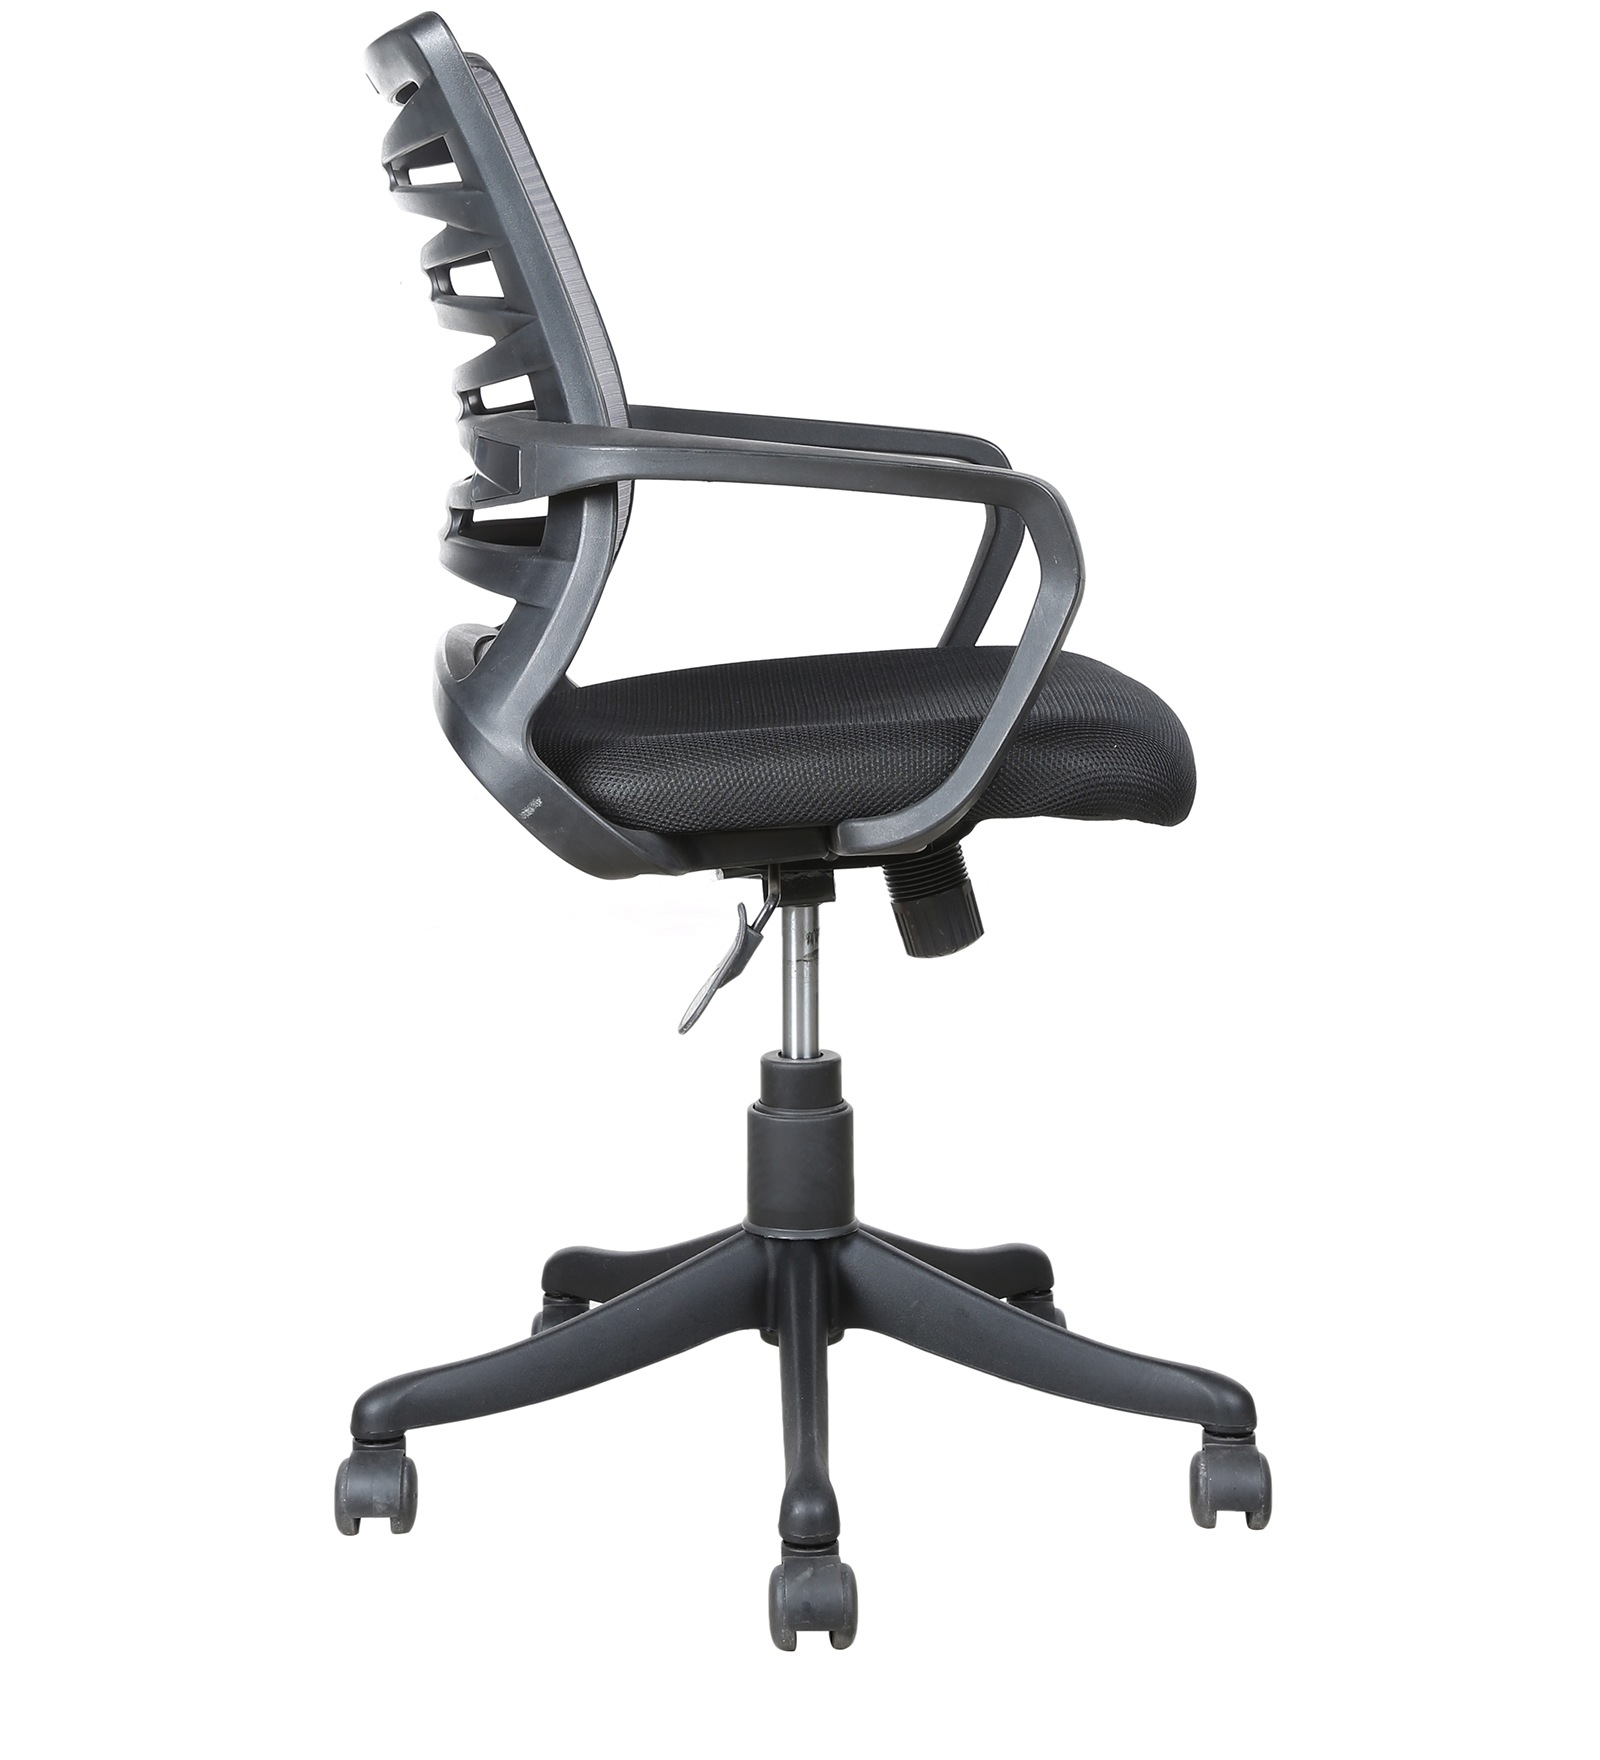Astec Ergonomic Chair in Grey Colour by Parin: (215, 20, 1326, 1657)
